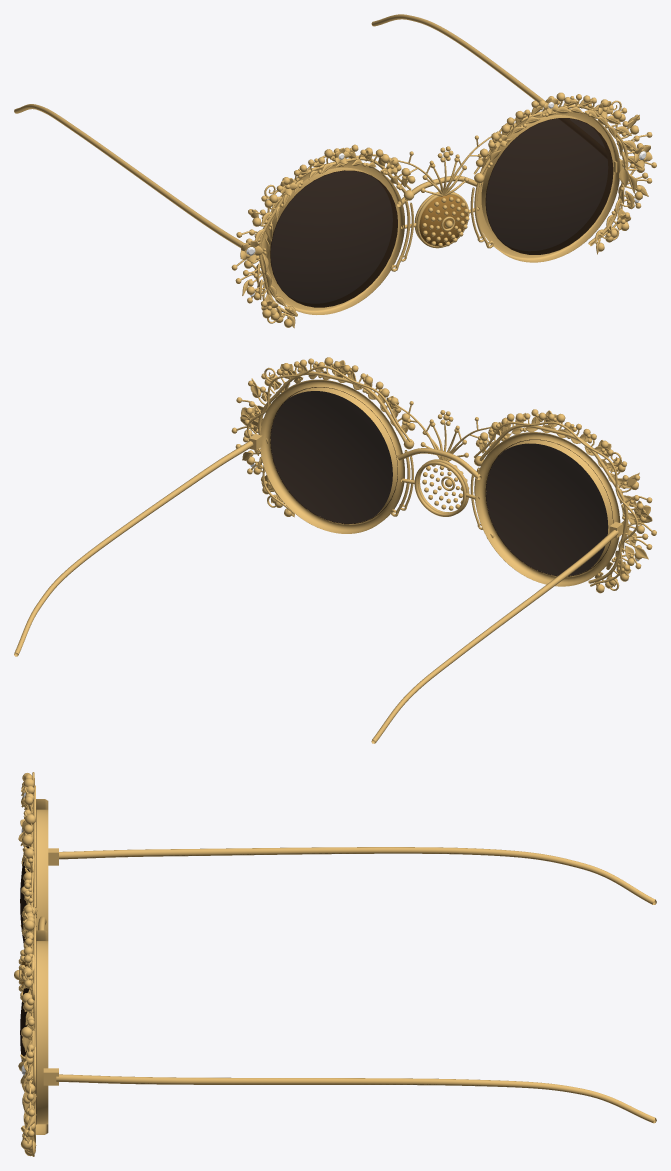
Rendered from filigree-sunglasses.glb.
3 views of the same model, one above another, from view 1: azimuth 30°, elevation 25°; view 2: azimuth 150°, elevation 25°; view 3: azimuth 270°, elevation 25° (orthographic). The views are drawn at different scales.
Parts seen in each view (by area): view 1: piece_Lens, piece_Gold, piece_GoldAntique; view 2: piece_Gold, piece_Lens; view 3: piece_Gold, piece_Lens.
Part boxes in pixels (x1,y1,x2,y2): piece_Lens: (270, 118, 613, 307); piece_Gold: (14, 14, 656, 328); piece_GoldAntique: (419, 194, 467, 246); piece_Gold: (14, 357, 656, 743); piece_Lens: (270, 387, 613, 576); piece_Gold: (14, 772, 656, 1156); piece_Lens: (20, 809, 36, 1124).
Bounding box in the file's own units: 0.1381 × 0.0527 × 0.1447.
